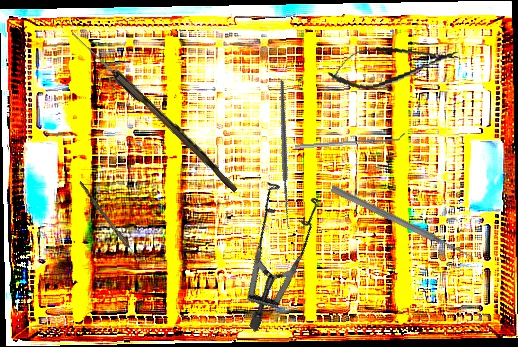Hook Surgical: (220, 79, 356, 233)
Micro Scissor: (324, 33, 463, 96)
Pusher: (329, 184, 476, 262)
Spatula Surgical: (294, 133, 406, 149)
Speculum: (186, 164, 358, 333)
Surgical Spoon: (68, 30, 242, 193), (76, 181, 149, 270)
